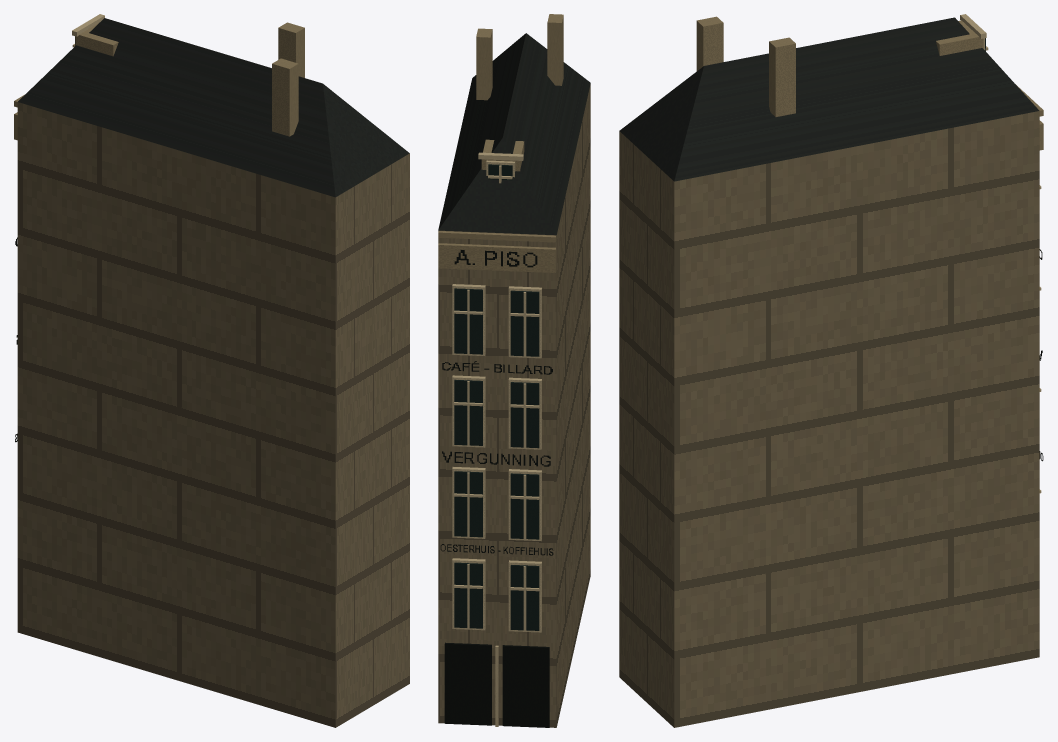
3 renders of one model, left to right at view 1: azimuth 30°, elevation 25°; view 2: azimuth 150°, elevation 25°; view 3: azimuth 270°, elevation 25°, orthographic. The views are drawn at different scales.
Visible parts, largest first — view 1: cafe-piso-galerij-0, cafe-piso-galerij-1, cafe-piso-galerij-2; view 2: cafe-piso-galerij-0, cafe-piso-galerij-1, cafe-piso-galerij-4, cafe-piso-galerij-5, cafe-piso-galerij-3, cafe-piso-galerij-2; view 3: cafe-piso-galerij-0, cafe-piso-galerij-1, cafe-piso-galerij-2.
Boxes of the visible parts, left/top/right/bottom form: cafe-piso-galerij-0: left=17, top=102, right=409, bottom=727; cafe-piso-galerij-1: left=18, top=18, right=409, bottom=197; cafe-piso-galerij-2: left=14, top=22, right=304, bottom=140; cafe-piso-galerij-0: left=438, top=84, right=590, bottom=727; cafe-piso-galerij-1: left=438, top=33, right=590, bottom=235; cafe-piso-galerij-4: left=454, top=164, right=539, bottom=630; cafe-piso-galerij-5: left=440, top=250, right=553, bottom=727; cafe-piso-galerij-3: left=452, top=152, right=541, bottom=726; cafe-piso-galerij-2: left=438, top=14, right=563, bottom=272; cafe-piso-galerij-0: left=619, top=111, right=1039, bottom=727; cafe-piso-galerij-1: left=619, top=17, right=1039, bottom=181; cafe-piso-galerij-2: left=696, top=16, right=1043, bottom=150.
Bounding box in the file's own units: 8.26 × 20.6 × 12.15.
Materials: 6 (6 with a texture image).
